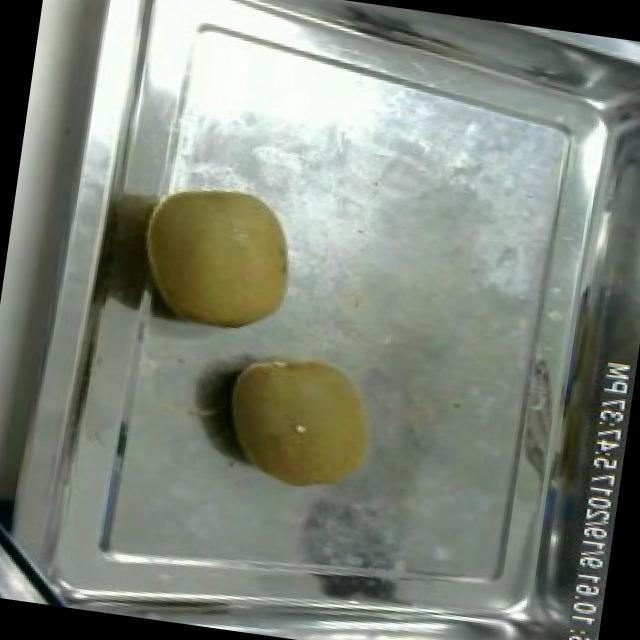Fruit: (122, 168, 310, 346), (212, 340, 392, 503)
